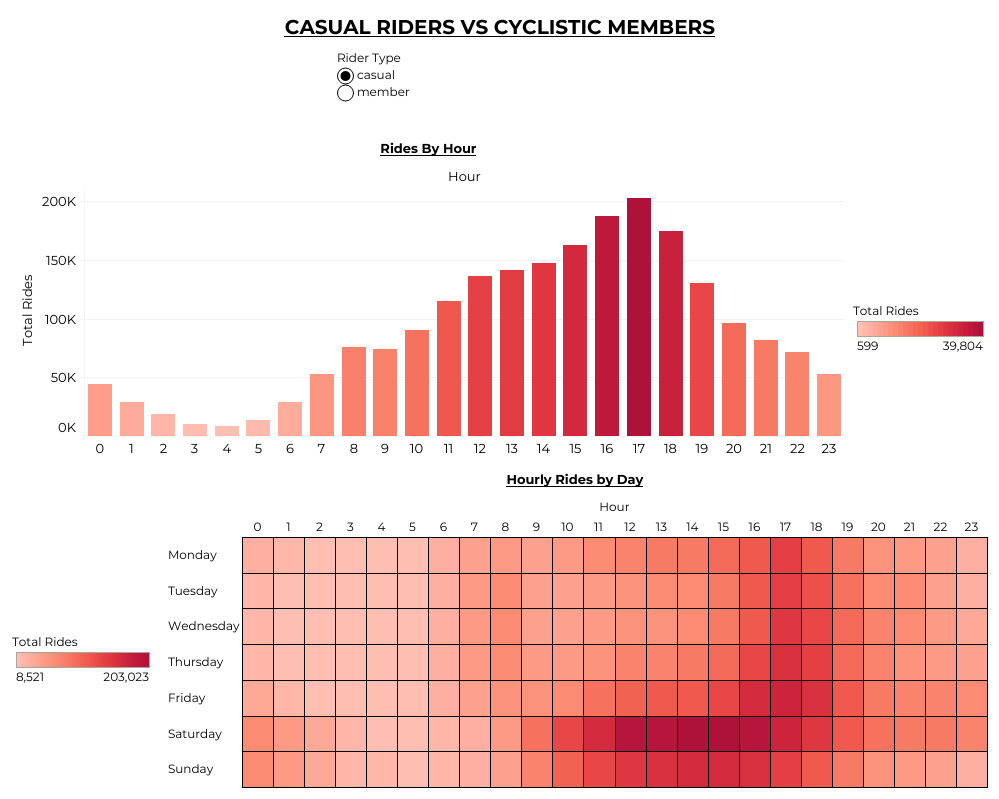

What the dashboard file says about the page in this screenshot:
{"tool":"tableau","page":{"name":"Dashboard 2","canvas":[1000,800],"ordinal":1},"visuals":[{"type":"text","box":[8,8,984,37.5]},{"type":"blank","box":[8,45.5,325,84.5]},{"type":"filter","title":"Rides By Hour","param":"[federated.1kjub821o2anqe1h8123z1yxfob3].[none:rider_type:nk]","box":[333,45.5,333,84.5]},{"type":"blank","box":[666,45.5,326,84.5]},{"type":"worksheet","title":"Rides By Hour","mark":"Bar","rows":["total_rides"],"cols":["hour"],"box":[8,130,841,331]},{"type":"blank","box":[849,130,143,165.5]},{"type":"legend","title":"Hourly Rides by Day","param":"[federated.0nan1l90aavoxx16ju13i1p57lra].[sum:total_rides:qk]","box":[849,295.5,143,165.5]},{"type":"blank","box":[8,461,150,165.5]},{"type":"worksheet","title":"Hourly Rides by Day","mark":"Square","rows":["day_of_week"],"cols":["hour"],"box":[158,461,834,331]},{"type":"legend","title":"Rides By Hour","param":"[federated.1kjub821o2anqe1h8123z1yxfob3].[sum:total_rides:qk]","box":[8,626.5,150,165.5]}]}

Visuals, with their boxes in screenshot pixels (x1, y1, x2, y2), scaled from the page's 1000x800 canvas onto the 999x799 screenshot:
text: [8, 8, 991, 45]
blank: [8, 45, 333, 130]
"Rides By Hour" filter: [333, 45, 665, 130]
blank: [665, 45, 991, 130]
"Rides By Hour" worksheet (Bar marks): [8, 130, 848, 460]
blank: [848, 130, 991, 295]
"Hourly Rides by Day" legend: [848, 295, 991, 460]
blank: [8, 460, 158, 626]
"Hourly Rides by Day" worksheet (Square marks): [158, 460, 991, 791]
"Rides By Hour" legend: [8, 626, 158, 791]
